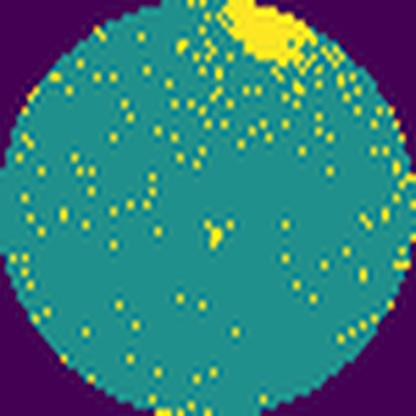Edge-Loc: (210, 0, 317, 75)
